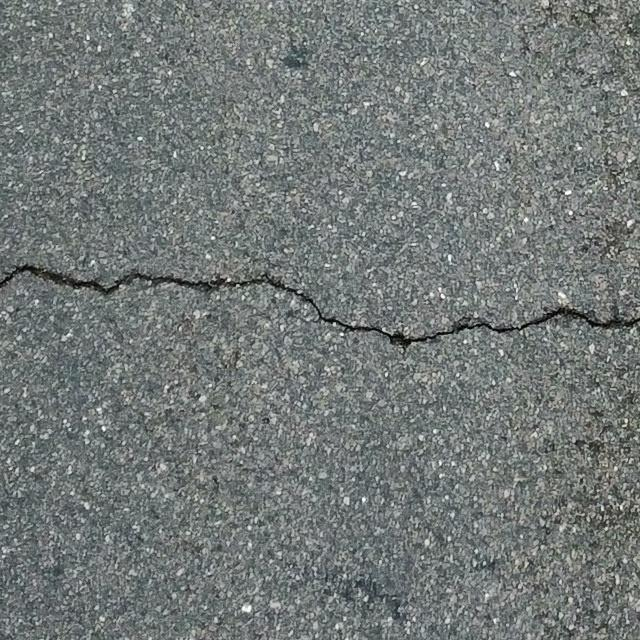TransverseCrack: (1, 263, 640, 346)
